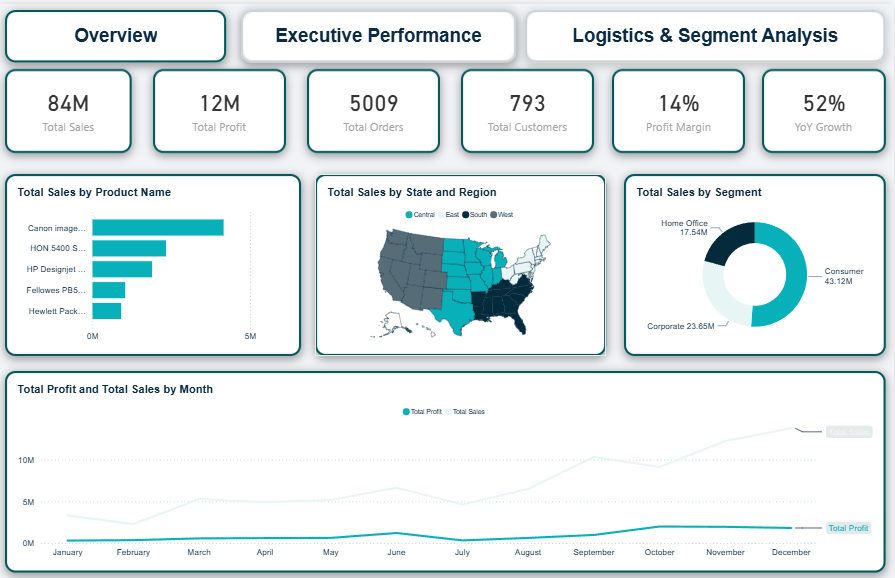

Layout of this report page (visuals, bound fields, positions):
{"tool":"powerbi","page":{"name":"Overview ","canvas":[1280,820],"ordinal":0},"visuals":[{"type":"actionButton","box":[752.5,8.8,515,75],"z":0},{"type":"actionButton","box":[347.5,8.8,392.5,75],"z":1000},{"type":"actionButton","box":[10,8.8,316.2,75],"z":2000},{"type":"lineChart","fields":{"Category":["Dim Ship.Ship Date.Variation.Date Hierarchy.Month"],"Y":["My Measures.Total Profit","My Measures.Total Sales"]},"box":[10,523.8,1257.5,287.5],"z":3000},{"type":"advanceCardE03760C5AB684758B56AA29F9E6C257B","fields":{"mainMeasure":["My Measures.Total Sales"]},"box":[10,93.2,181.1,120],"z":4000},{"type":"advanceCardE03760C5AB684758B56AA29F9E6C257B","fields":{"mainMeasure":["My Measures.Total Profit"]},"box":[221,93.2,190,120],"z":5000},{"type":"advanceCardE03760C5AB684758B56AA29F9E6C257B","fields":{"mainMeasure":["My Measures.Profit Margin"]},"box":[876.6,93.2,190,120],"z":6000},{"type":"advanceCardE03760C5AB684758B56AA29F9E6C257B","fields":{"mainMeasure":["My Measures.YoY Growth"]},"box":[1091.1,93.2,176.7,120],"z":7000},{"type":"advanceCardE03760C5AB684758B56AA29F9E6C257B","fields":{"mainMeasure":["My Measures.Total Orders"]},"box":[441,93.2,190,120],"z":8000},{"type":"advanceCardE03760C5AB684758B56AA29F9E6C257B","fields":{"mainMeasure":["My Measures.Total Customers"]},"box":[661,93.2,190,120],"z":9000},{"type":"shapeMap","fields":{"Category":["Dim Location.State"],"Series":["Dim Location.Region"],"Value":["My Measures.Total Sales"]},"box":[452.5,242.5,416.2,260],"z":9001},{"type":"clusteredBarChart","fields":{"Category":["Dim Product.Product Name"],"Y":["My Measures.Total Sales"]},"box":[10,242.5,422.5,260],"z":9002},{"type":"donutChart","fields":{"Category":["Dim Customer.Segment"],"Y":["My Measures.Total Sales"]},"box":[893.8,242.5,373.8,260],"z":9003}]}

Visuals, with their boxes in screenshot pixels (x1, y1, x2, y2), scaled from the page's 1280x820 canvas onto the 895x578 screenshot:
actionButton: left=526, top=6, right=886, bottom=59
actionButton: left=243, top=6, right=517, bottom=59
actionButton: left=7, top=6, right=228, bottom=59
lineChart - Dim Ship.Ship Date.Variation.Date Hierarchy.Month x My Measures.Total Profit: left=7, top=369, right=886, bottom=572
advanceCardE03760C5AB684758B56AA29F9E6C257B - My Measures.Total Sales: left=7, top=66, right=134, bottom=150
advanceCardE03760C5AB684758B56AA29F9E6C257B - My Measures.Total Profit: left=155, top=66, right=287, bottom=150
advanceCardE03760C5AB684758B56AA29F9E6C257B - My Measures.Profit Margin: left=613, top=66, right=746, bottom=150
advanceCardE03760C5AB684758B56AA29F9E6C257B - My Measures.YoY Growth: left=763, top=66, right=886, bottom=150
advanceCardE03760C5AB684758B56AA29F9E6C257B - My Measures.Total Orders: left=308, top=66, right=441, bottom=150
advanceCardE03760C5AB684758B56AA29F9E6C257B - My Measures.Total Customers: left=462, top=66, right=595, bottom=150
shapeMap - Dim Location.State x Dim Location.Region: left=316, top=171, right=607, bottom=354
clusteredBarChart - Dim Product.Product Name x My Measures.Total Sales: left=7, top=171, right=302, bottom=354
donutChart - Dim Customer.Segment x My Measures.Total Sales: left=625, top=171, right=886, bottom=354
